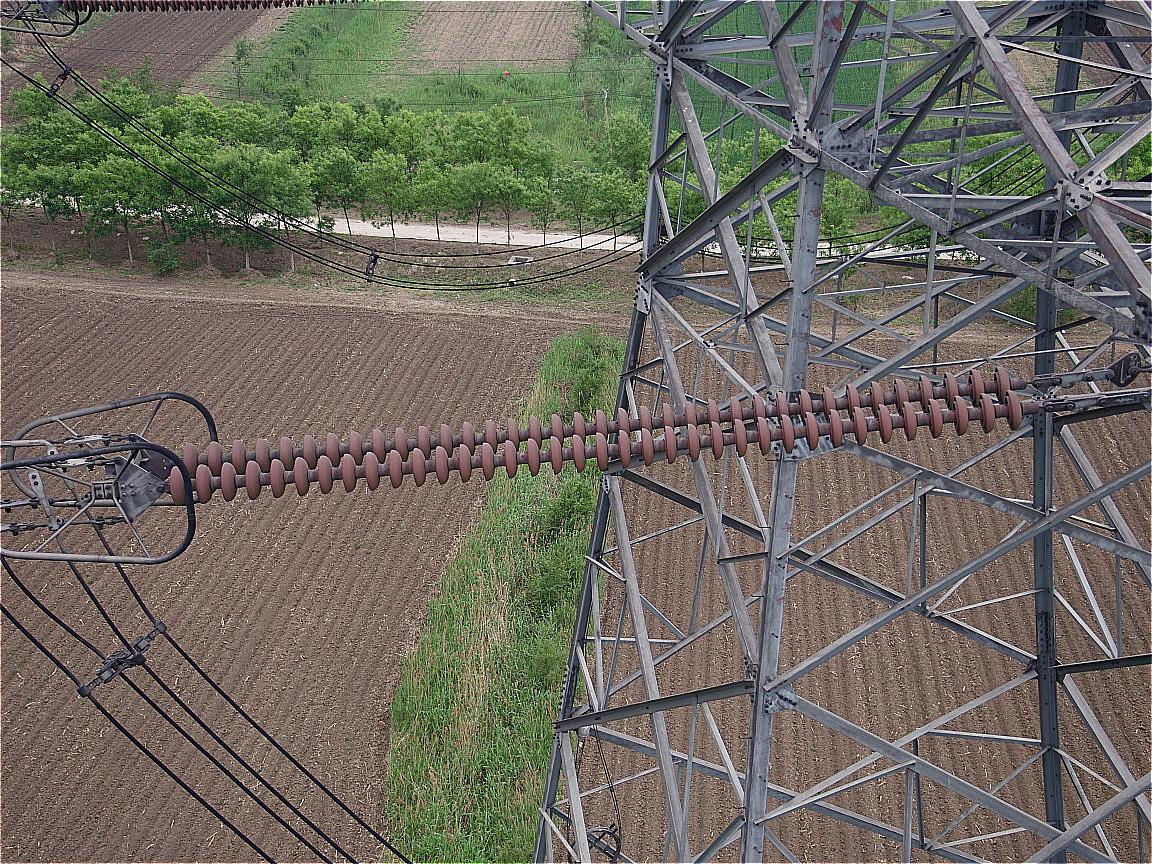insultor1: (168, 367, 1026, 504)
